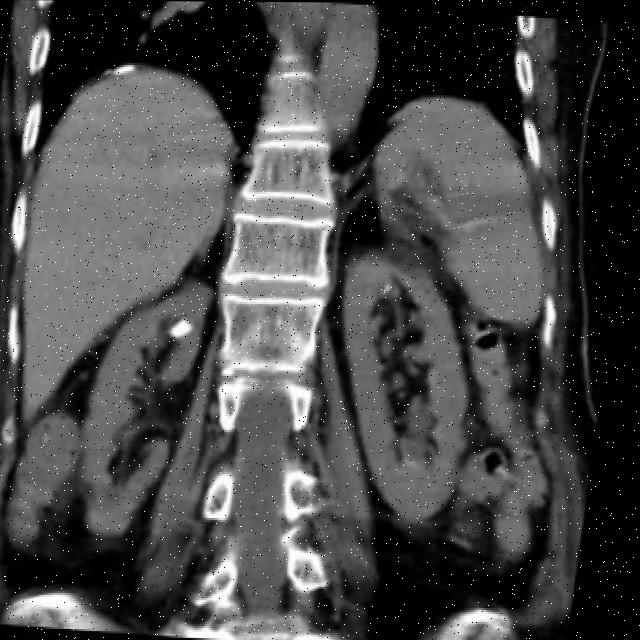Tas_Var: (171, 316, 201, 348), (385, 277, 400, 295)
